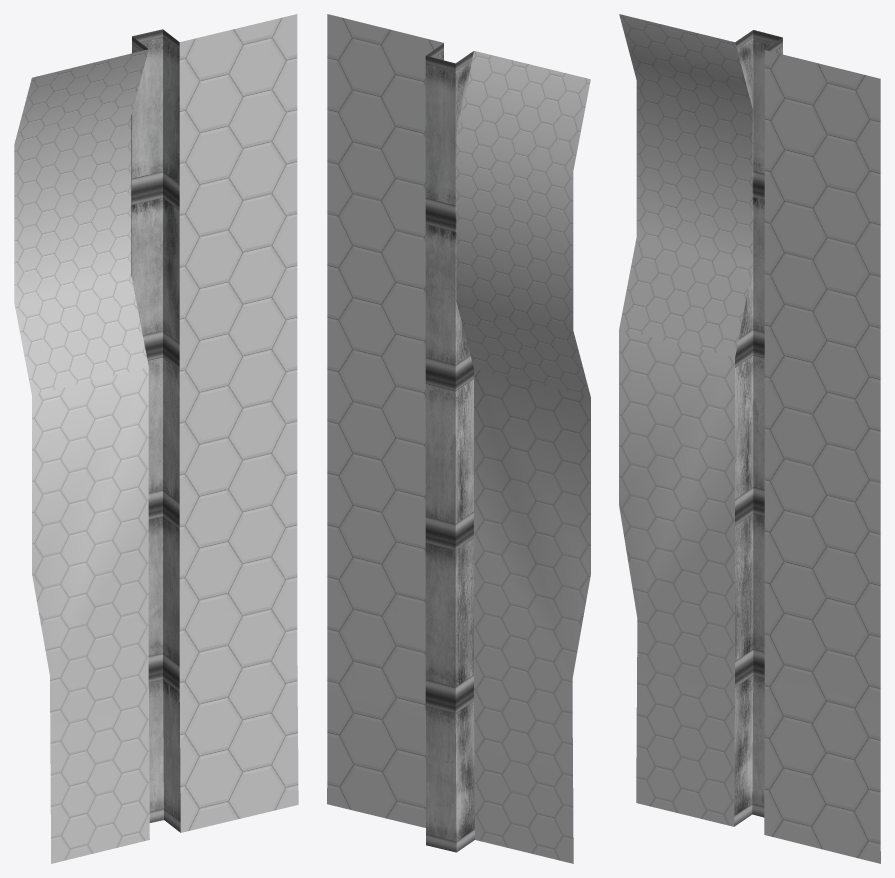
File: Wall001.fbx
3 views of the same model, side by side, from view 1: azimuth 30°, elevation 25°; view 2: azimuth 150°, elevation 25°; view 3: azimuth 330°, elevation 25° (orthographic).
Parts seen in each view (by area): view 1: Wall001; view 2: Wall001; view 3: Wall001.
Part boxes in pixels (<box>): Wall001: <box>14,14,298,863</box>; Wall001: <box>327,14,590,863</box>; Wall001: <box>619,14,880,863</box>.
Size of the model in its own units: 222 by 632 by 27.55.
1 material, 1 textured.
